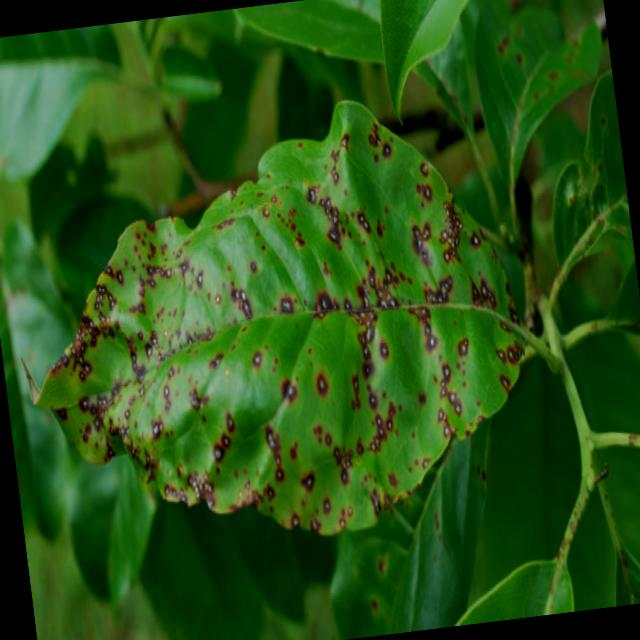leaf_spot: (28, 101, 556, 533)
